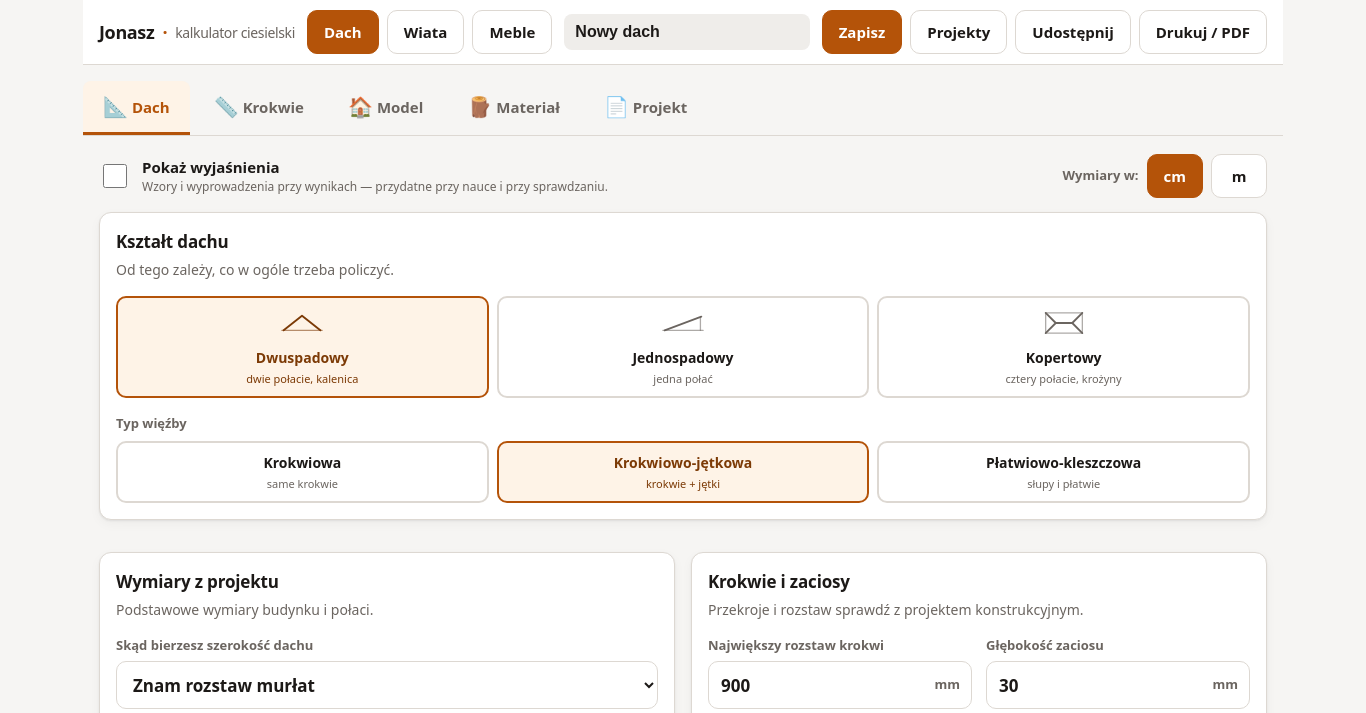
it: wiaty, zadaszenia i pergole › przełącznik w nagłówku podmienia zakładki na wiatowe
This screenshot has width=1366, height=713.
Expected: the tab "📐 Dach" is shown, x1=83 y1=81 x2=190 y2=135
Click the button "Wiata" at (426, 32), box x1=387 y1=10 x2=464 y2=54
(page scrolled)
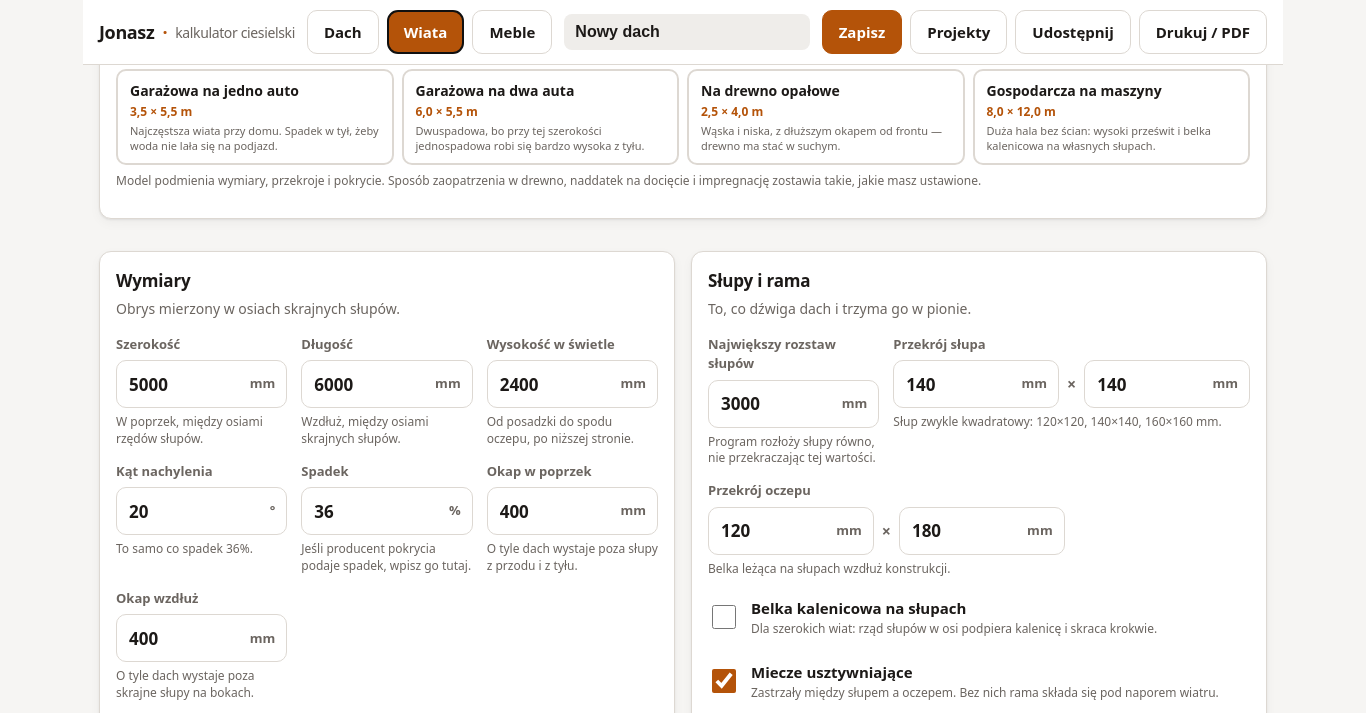
Expected: the number field labelled "Wysokość w świetle" is shown, x1=487 y1=360 x2=658 y2=408
